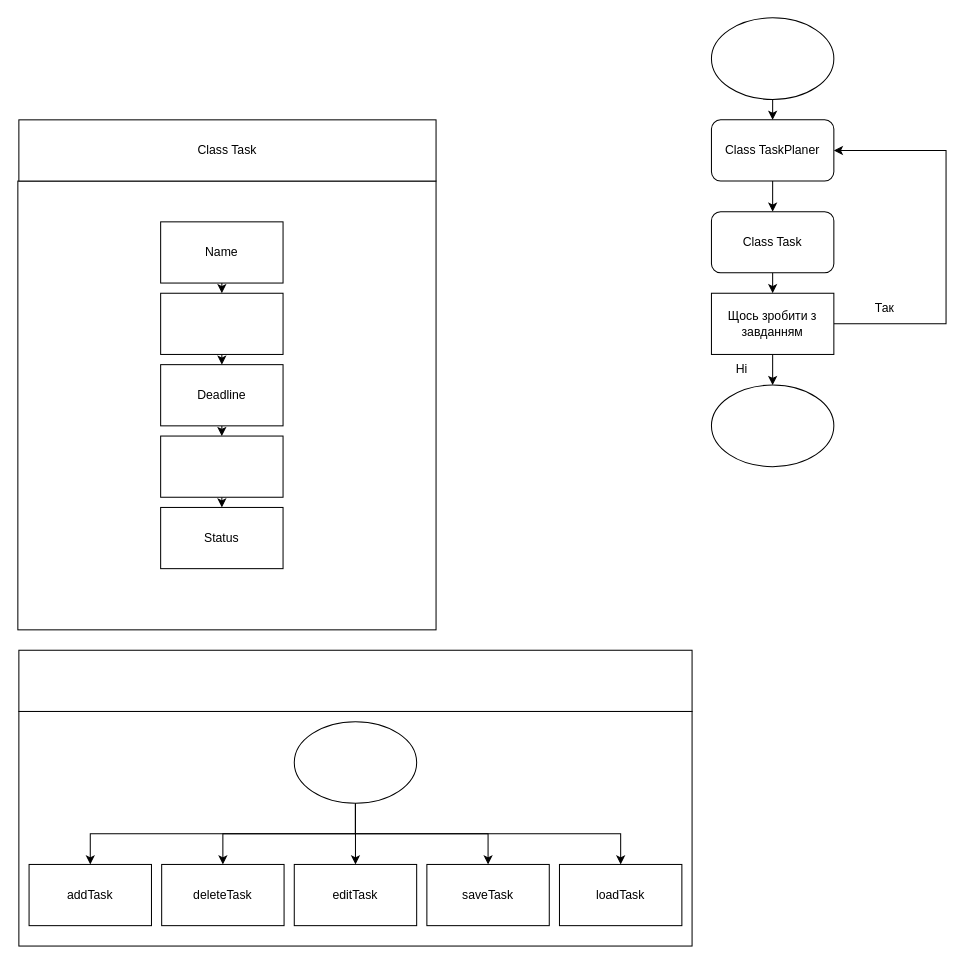
Image size: 972x964. Some labels were removed from this diagram. Each missing label, with the box of its shape:
Class TaskPlanner: (18, 649, 692, 711)
Cтарт: (293, 721, 417, 803)
Descriotion: (160, 292, 283, 354)
Priority: (160, 435, 283, 497)
Кінець: (710, 384, 834, 467)
Старт: (710, 17, 834, 99)
